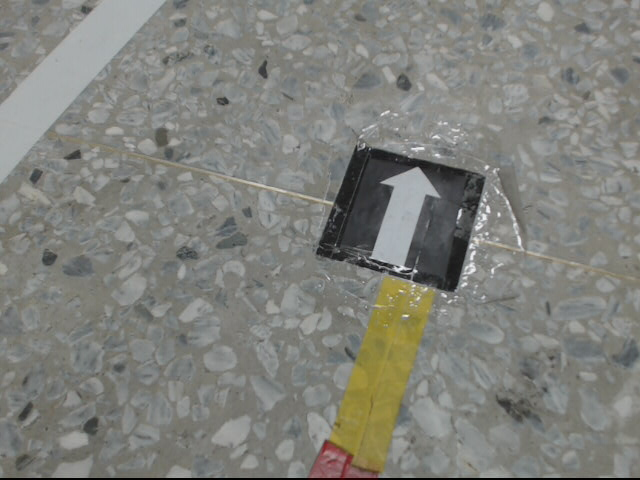straight: (317, 141, 488, 298)
